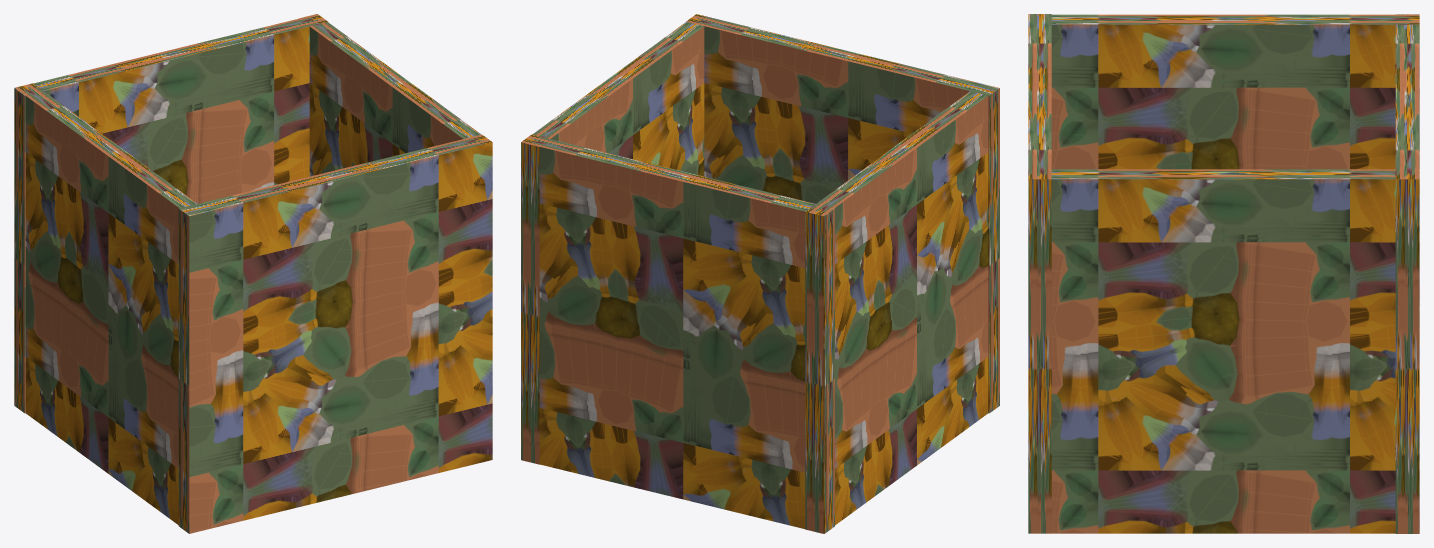
File: room.obj
3 views of the same model, side by side, from view 1: azimuth 30°, elevation 25°; view 2: azimuth 150°, elevation 25°; view 3: azimuth 270°, elevation 25° (orthographic). The views are drawn at different scales.
Visible parts, largest first — view 1: Sphere; view 2: Sphere; view 3: Sphere.
Boxes of the visible parts, x1,y1,x2,y2 form: Sphere: (14,14,492,533); Sphere: (521,14,999,533); Sphere: (1028,14,1419,533).
Size of the model in its own units: 35.68 by 35.66 by 35.68.
1 material, 1 textured.
